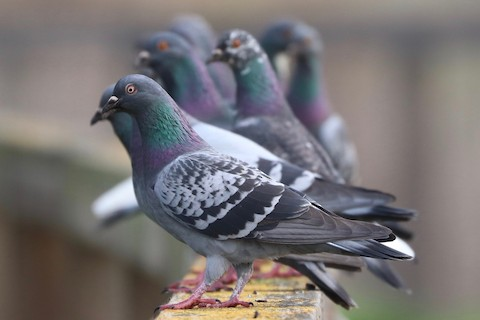pigeon: (100, 71, 416, 316), (87, 82, 428, 255), (187, 26, 374, 182), (131, 29, 279, 185)
